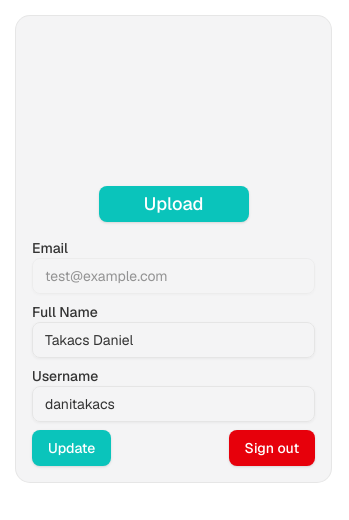
it: UpdateProfileForm › should show validation error if username is too short
Replace the text in the field labelled "Username" with "ab" at coordinates (174, 404), box [32,386,315,422]
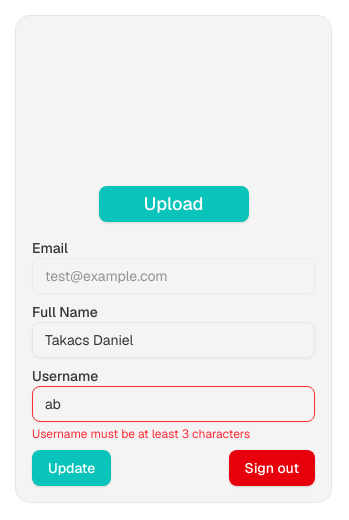
Result: the text "Username must be at least 3 characters" is shown at [32,426,250,442]
